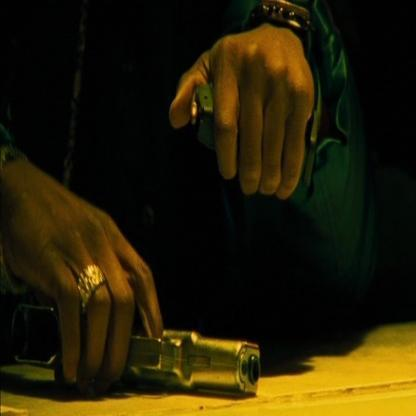gun: (122, 308, 278, 412)
